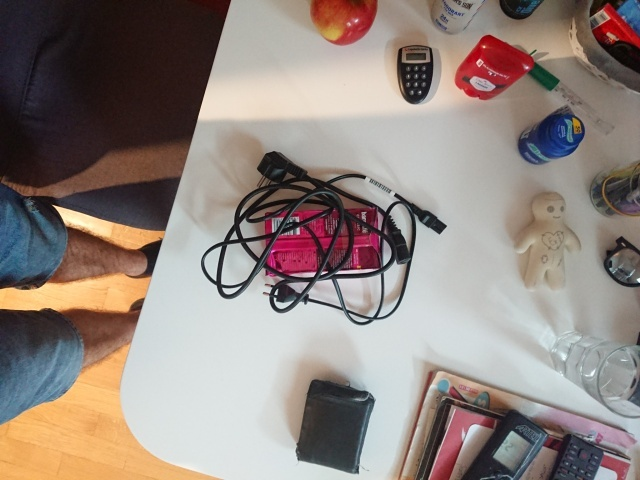Barcaffe Classic Original 225g: (263, 204, 385, 279)
